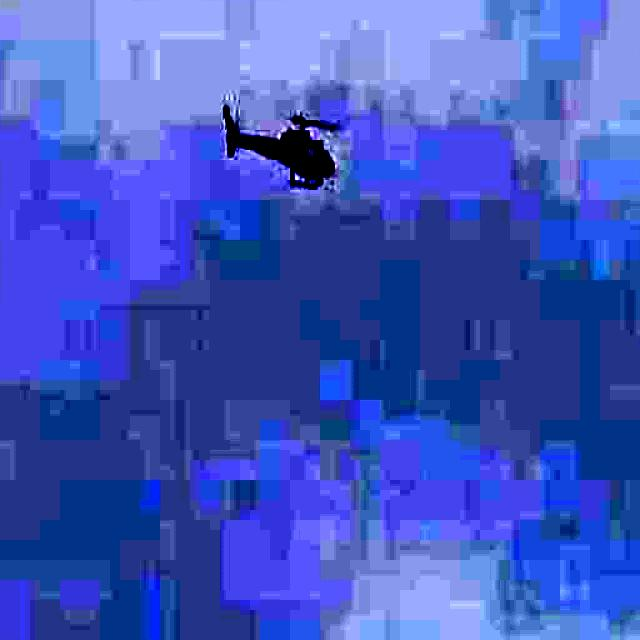drone: (202, 80, 340, 206)
